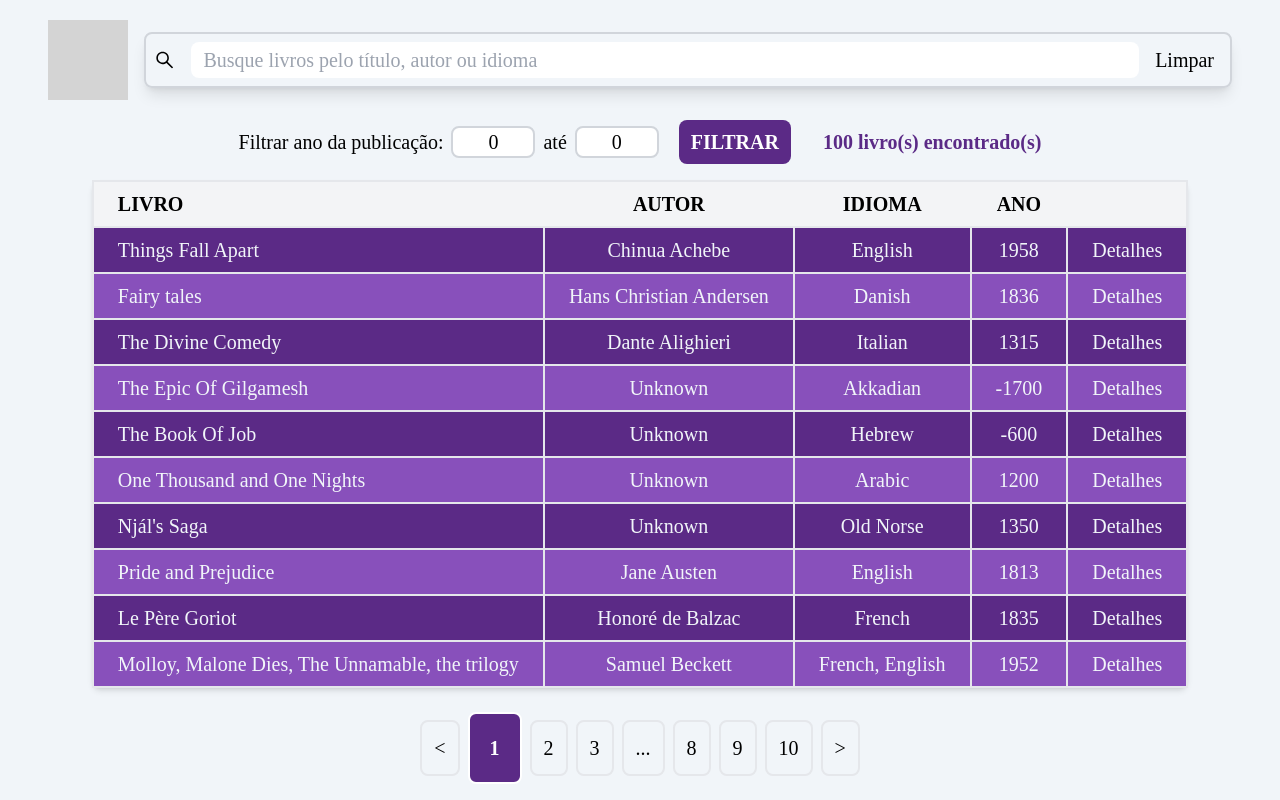
tests in search bar › should search books in English between the years 1900 and 1950
expect the element with id "search-bar" is shown: met, box left=48, top=20, right=1232, bottom=100
Type "English" into the field with id "search-bar-input".
click(665, 60); type("English")  # box left=191, top=42, right=1139, bottom=78
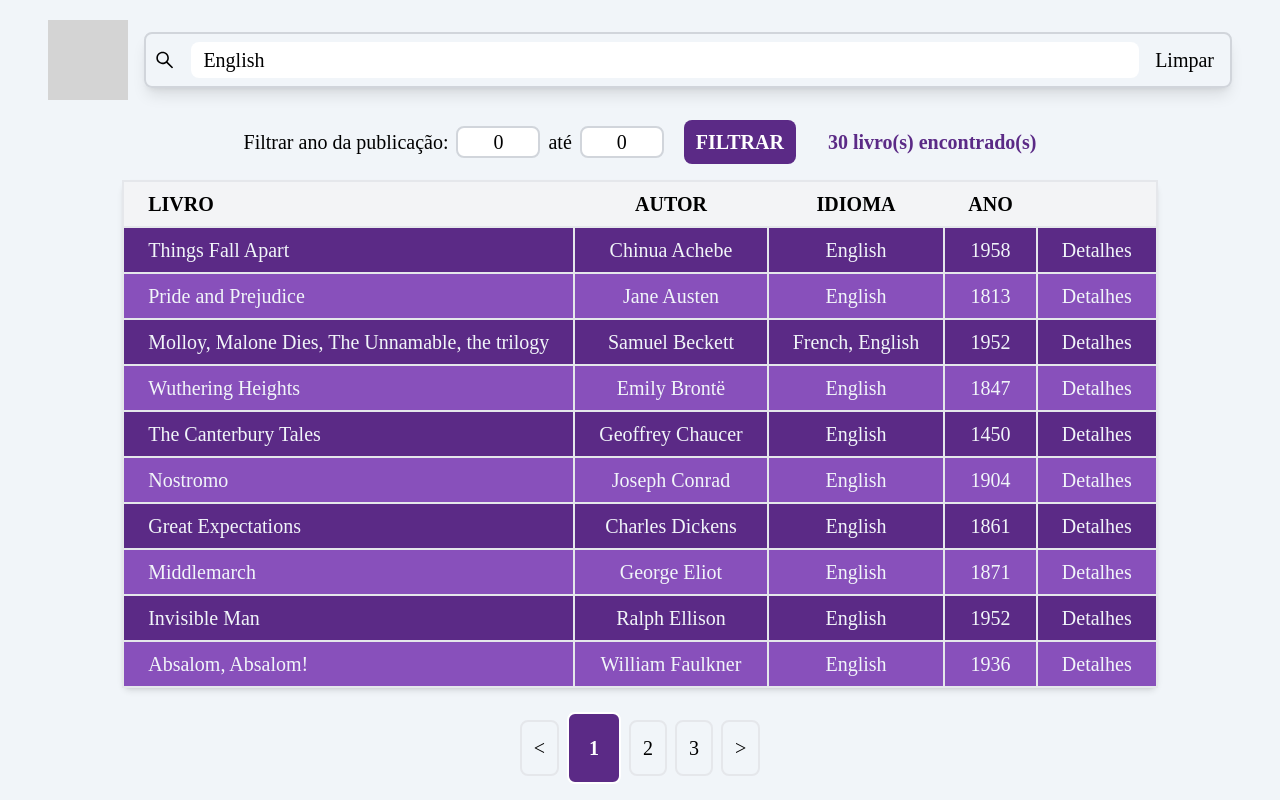
Type "1900" into the number field with id "initial-year".
click(499, 142); type("1900")  # box left=457, top=126, right=541, bottom=158
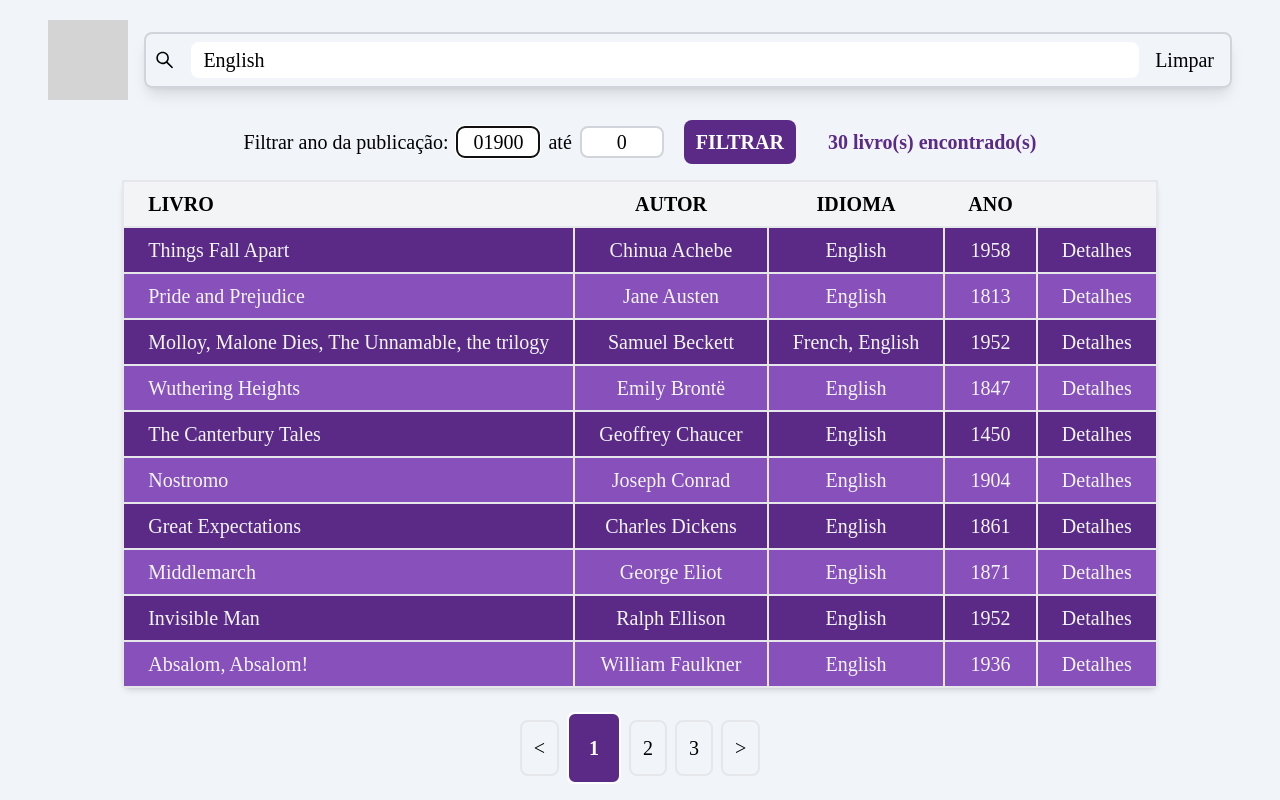
Type "1950" into the number field with id "final-year".
click(622, 142); type("1950")  # box left=580, top=126, right=664, bottom=158
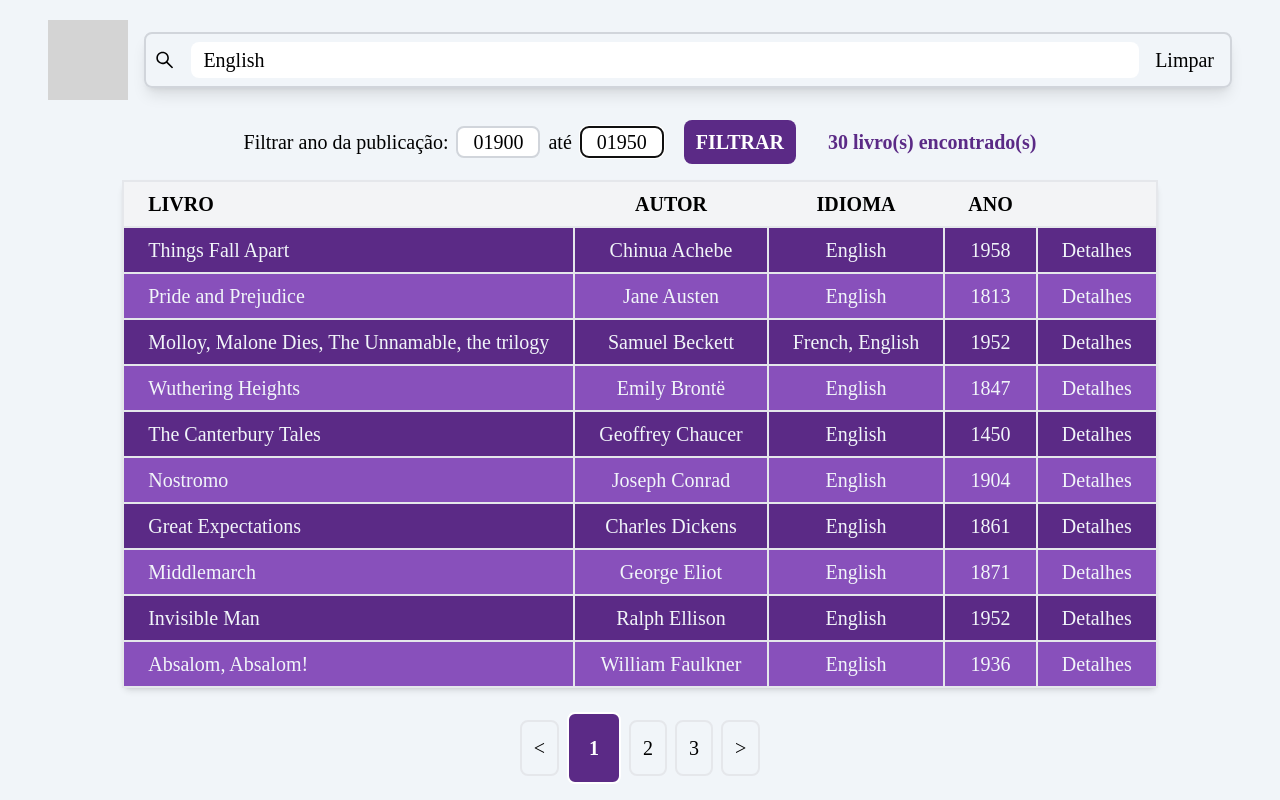
Click the button with id "filter-button".
click(740, 142)  # box left=684, top=120, right=796, bottom=164
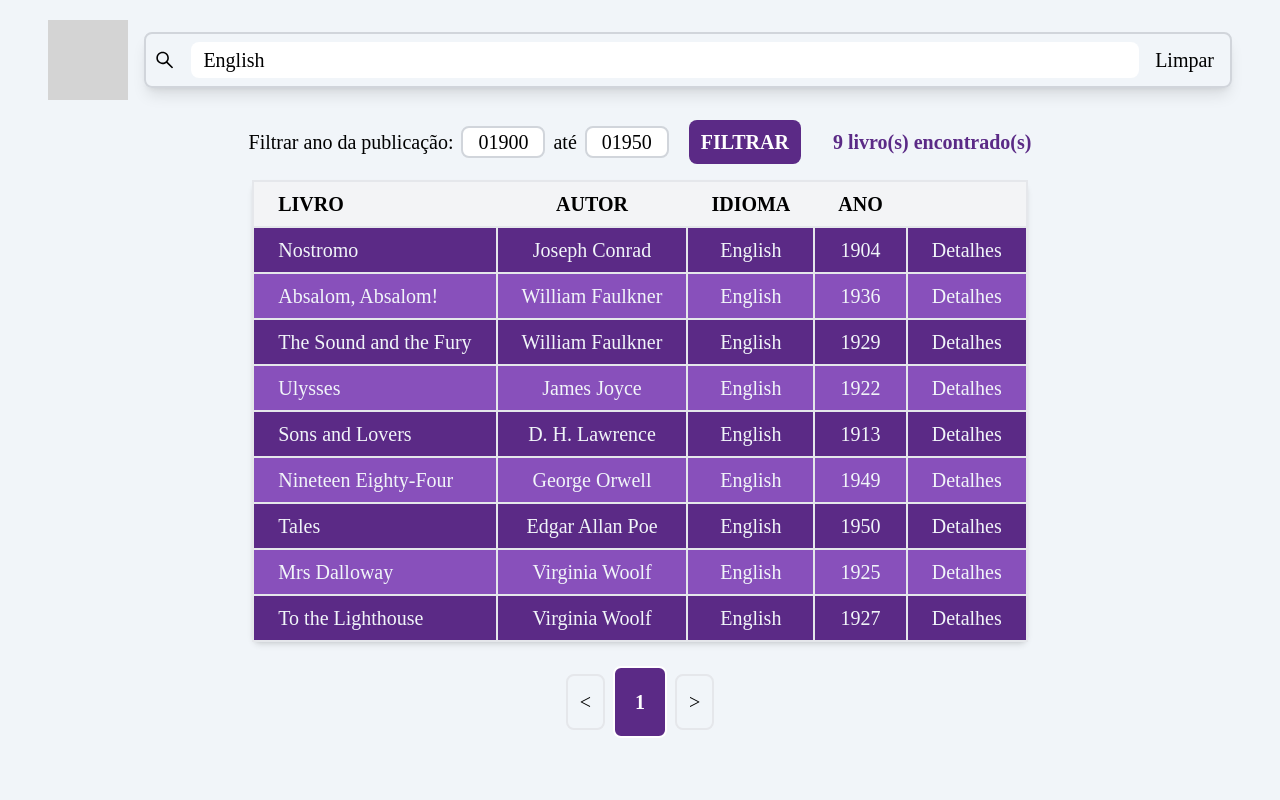
expect the text "9 livro(s) encontrado(s)" is shown: met, box left=833, top=128, right=1032, bottom=156
expect the number of list items is 3: met, box left=566, top=674, right=605, bottom=730; left=613, top=666, right=667, bottom=738; left=675, top=674, right=714, bottom=730
